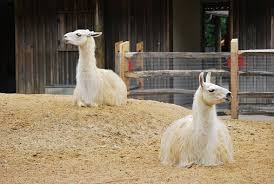alpaca: (158, 70, 234, 167), (62, 28, 127, 107)
